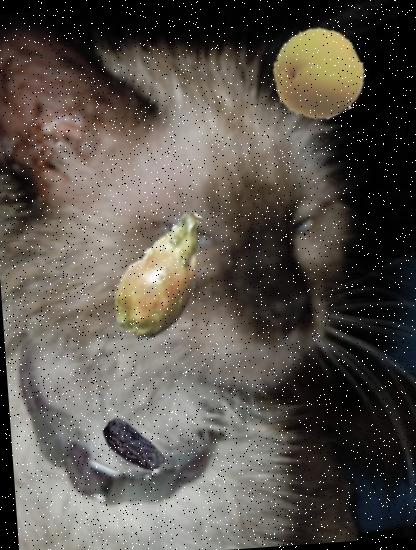Cactus: (94, 202, 240, 348)
Dates: (96, 409, 172, 484)
Peach: (268, 24, 366, 122)
